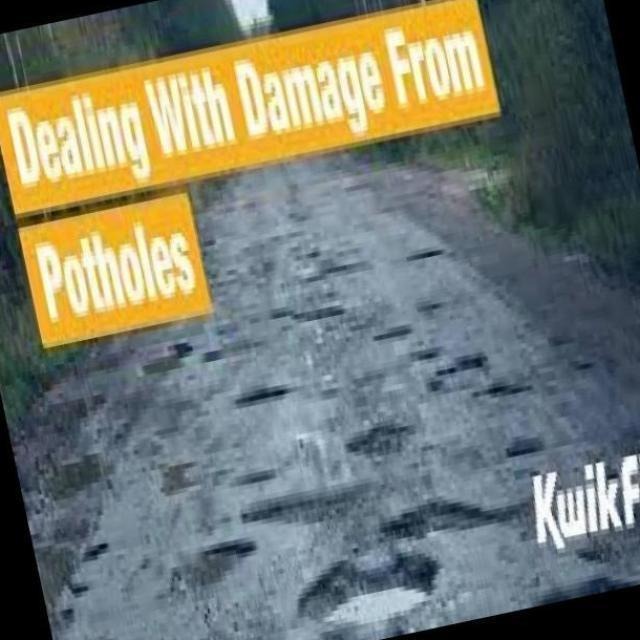Pathole: (298, 568, 420, 622), (393, 503, 510, 535)
